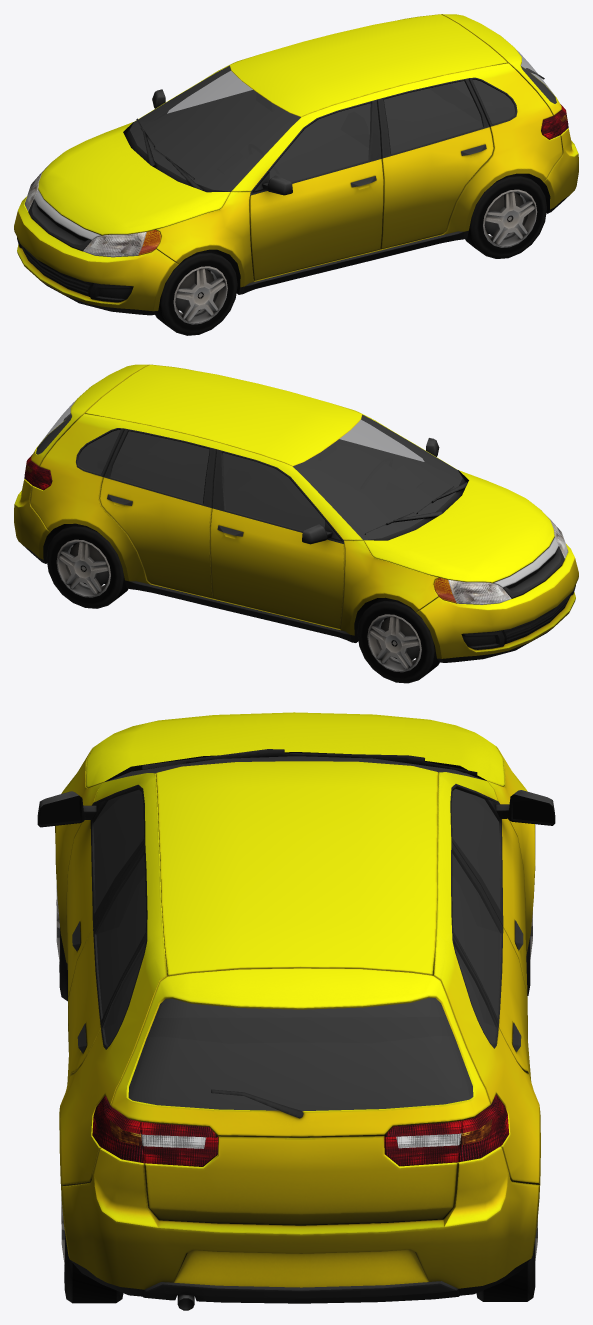
File: hatchback.glb
The picture shows the model from 3 angles, top to bottom: view 1: azimuth 30°, elevation 25°; view 2: azimuth 150°, elevation 25°; view 3: azimuth 270°, elevation 25°; orthographic projection. The views are drawn at different scales.
Visible parts, largest first — view 1: hatchback; view 2: hatchback; view 3: hatchback.
Boxes of the visible parts, x1,y1,x2,y2 form: hatchback: [14, 14, 578, 335]; hatchback: [14, 364, 578, 683]; hatchback: [37, 712, 555, 1310].
Bounding box in the file's own units: 4.1 × 1.4 × 1.8.
4 materials, 3 textured.
